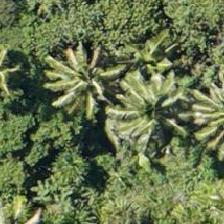coconut_tree: (121, 61, 211, 151), (32, 39, 122, 129)
